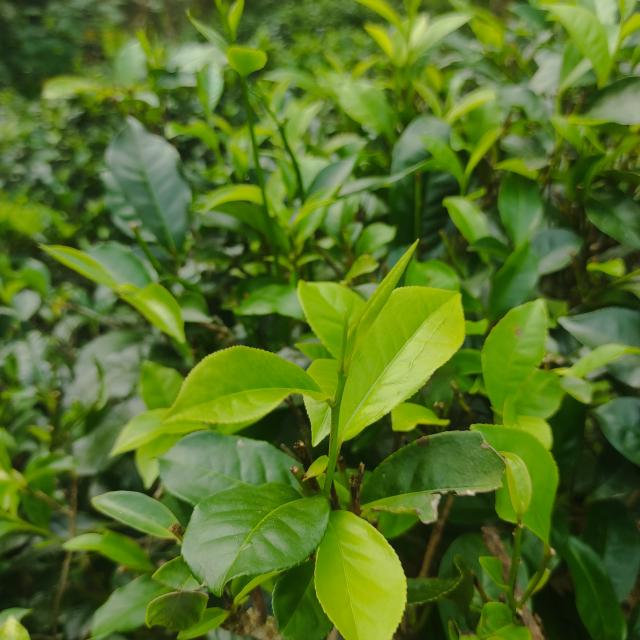unopened_leaf: (344, 230, 432, 366)
